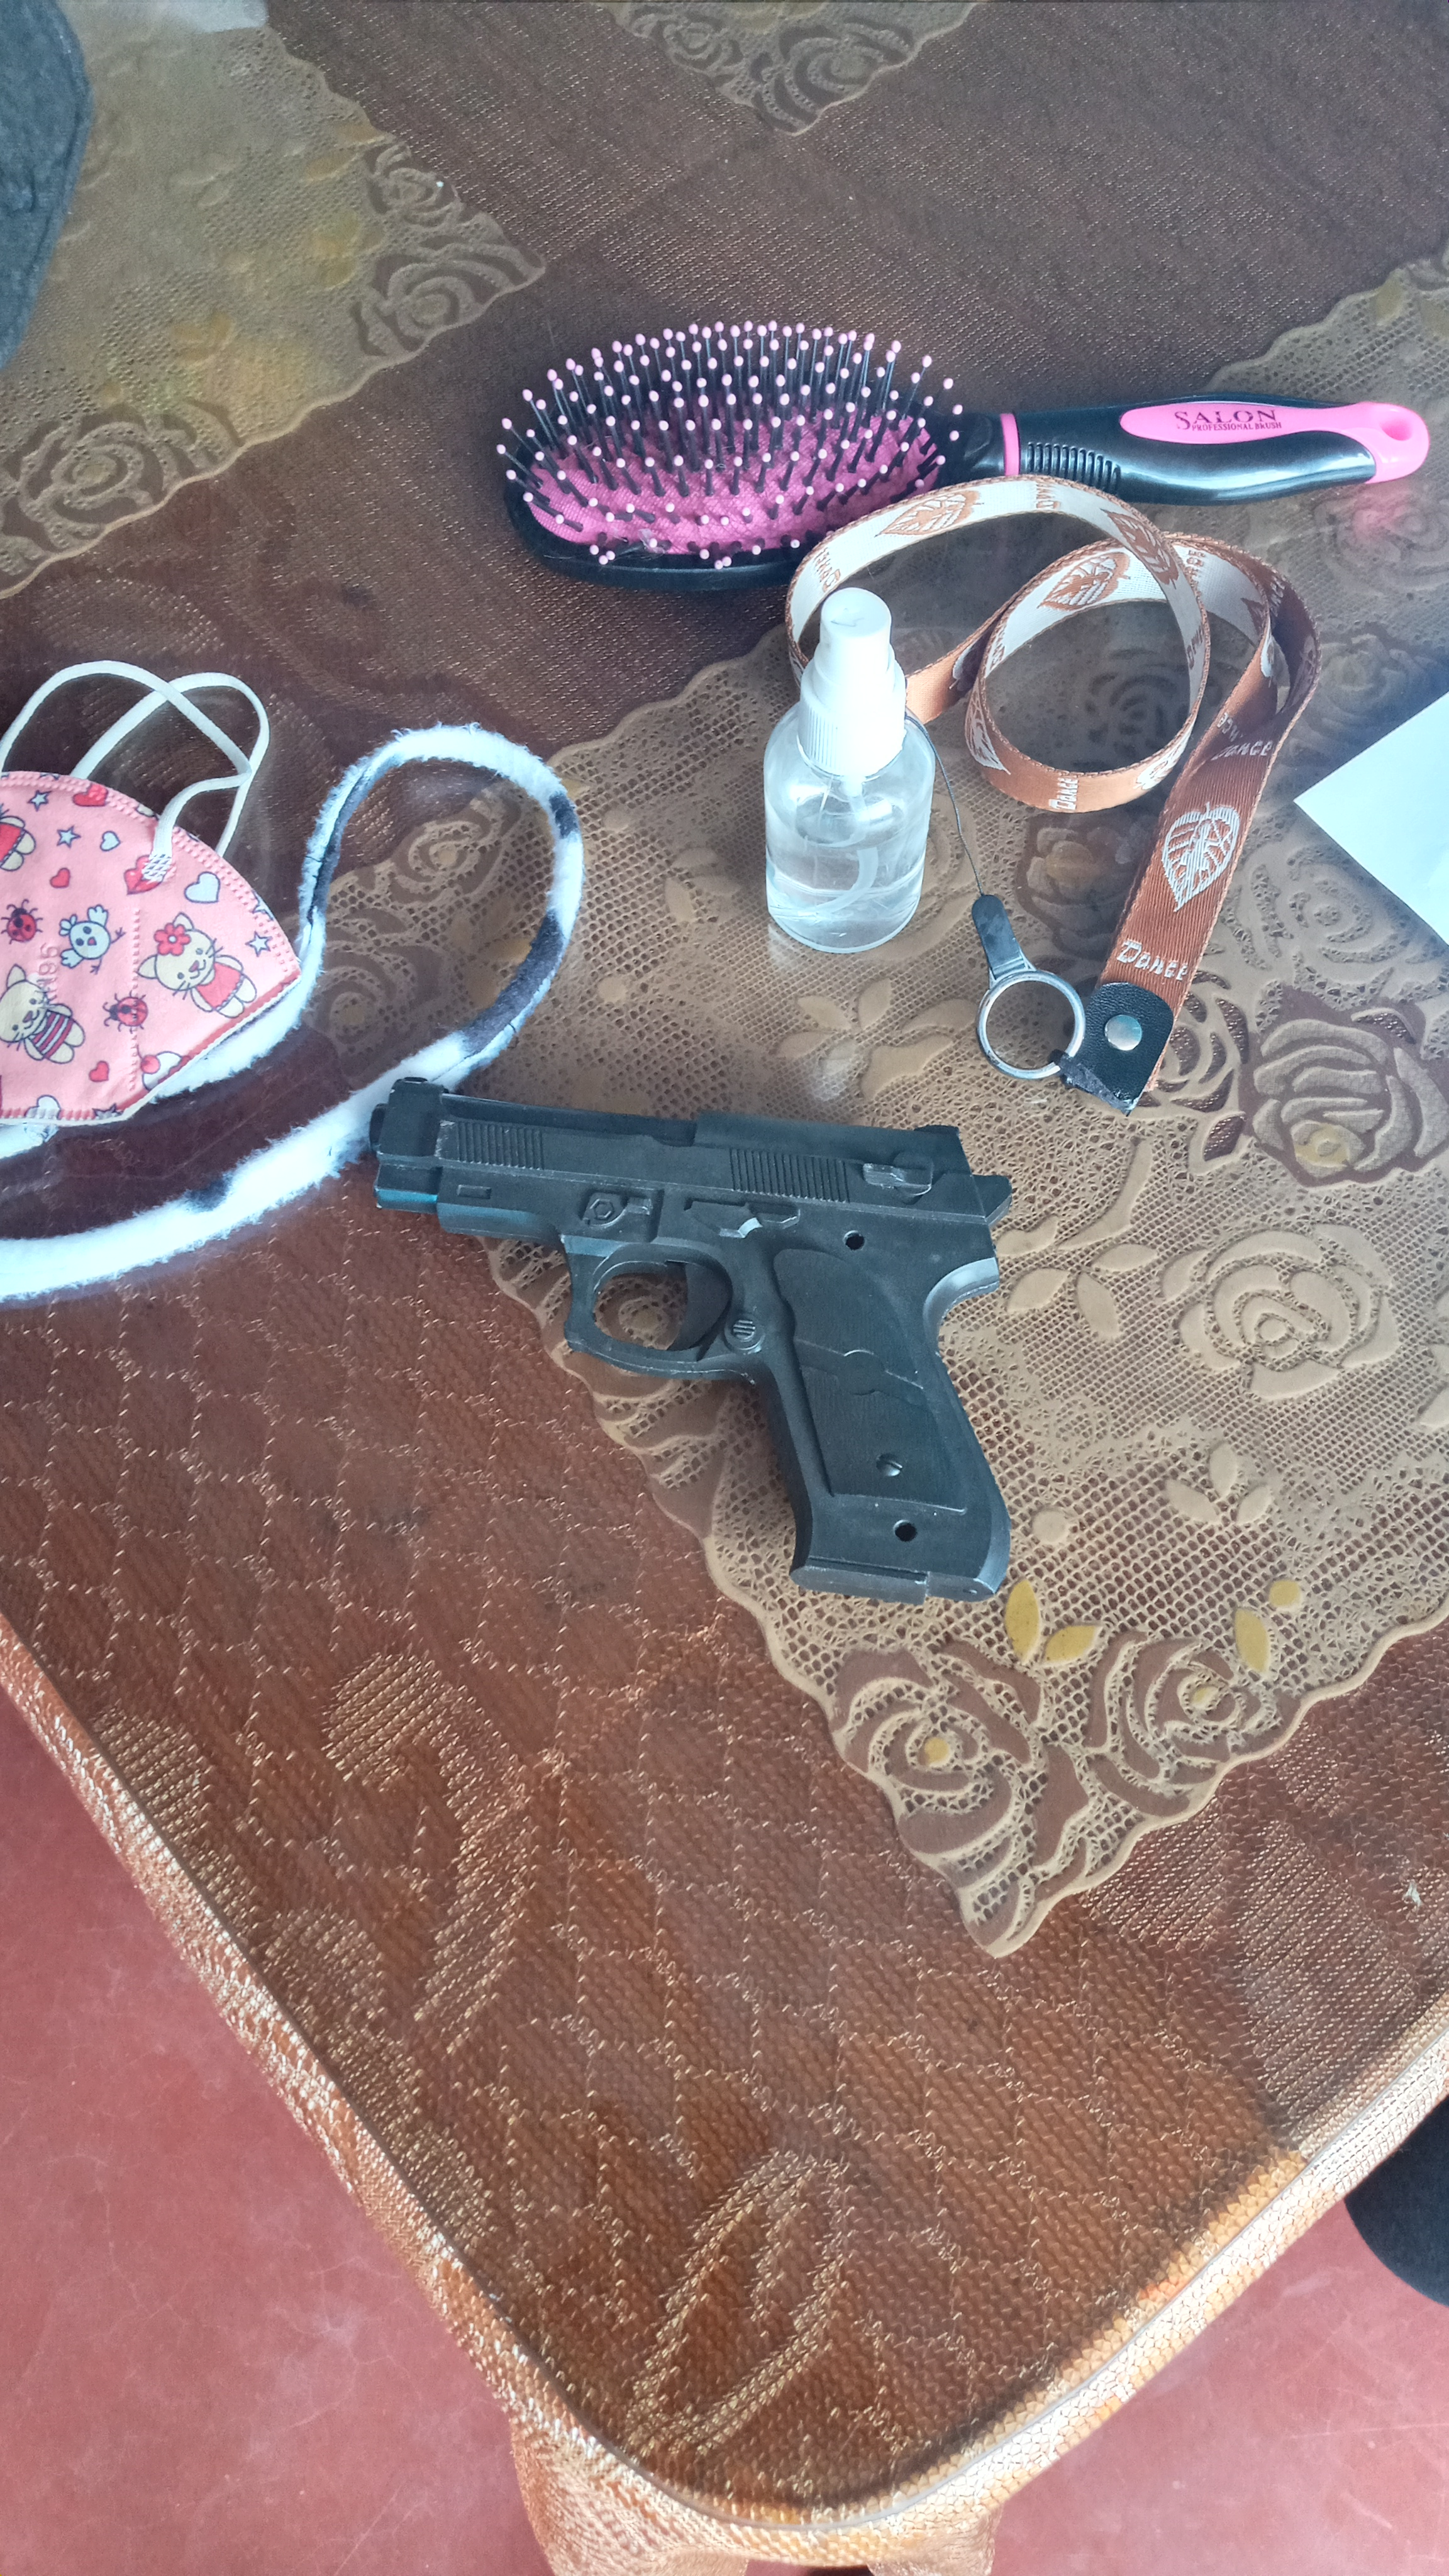Arma: (352, 1072, 1021, 1421)
